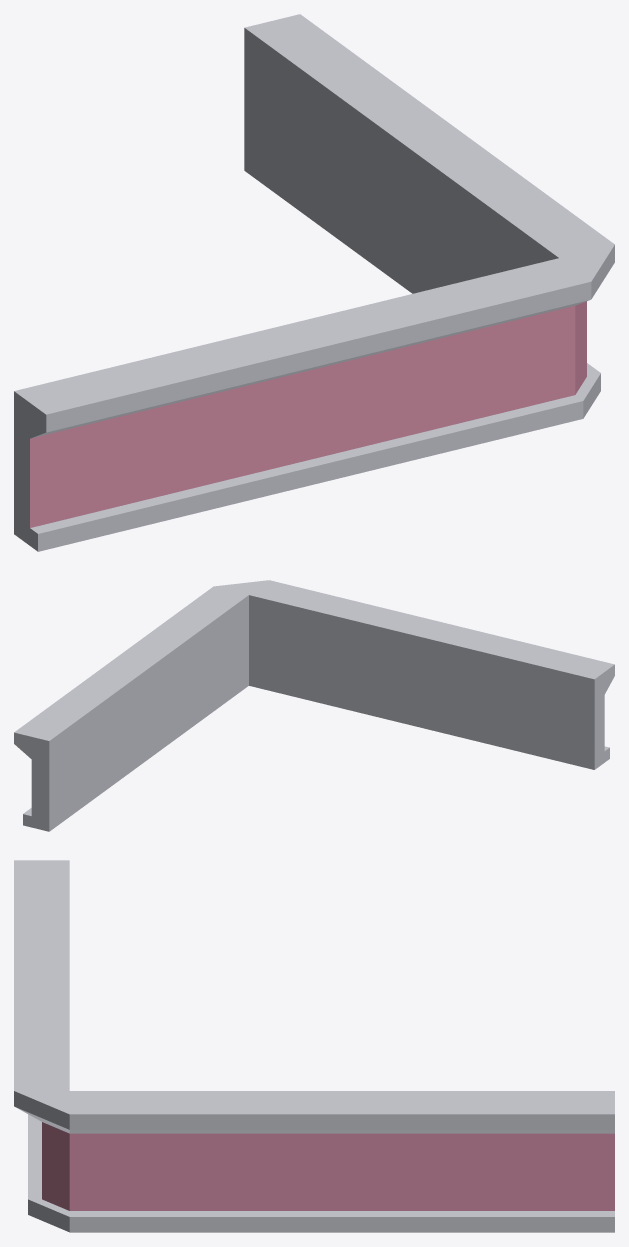
File: space-station-kit--object-067.glb
3 renders of one model, top to bottom at view 1: azimuth 30°, elevation 25°; view 2: azimuth 150°, elevation 25°; view 3: azimuth 270°, elevation 25°, orthographic. The views are drawn at different scales.
Parts seen in each view (by area): view 1: object_067; view 2: object_067; view 3: object_067.
Boxes of the visible parts, x1,y1,x2,y2 form: object_067: (14,14,614,551); object_067: (14,580,614,831); object_067: (14,860,614,1232).
Size of the model in its own units: 1.02 by 0.2329 by 1.02.
